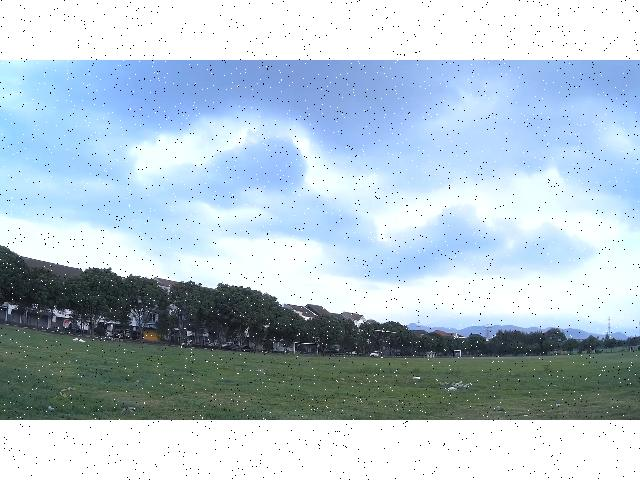Anti-Drone: (371, 329, 397, 333)
